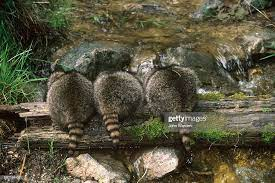raccoon: (144, 70, 201, 148), (44, 72, 94, 152), (92, 73, 138, 142)
